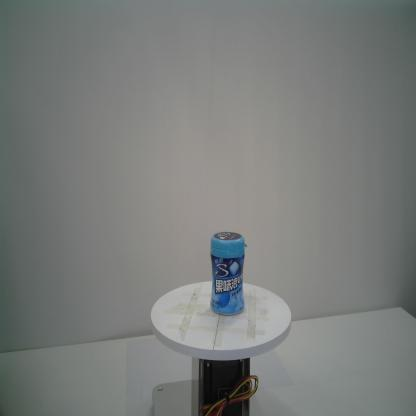Gum: (208, 229, 248, 316)
